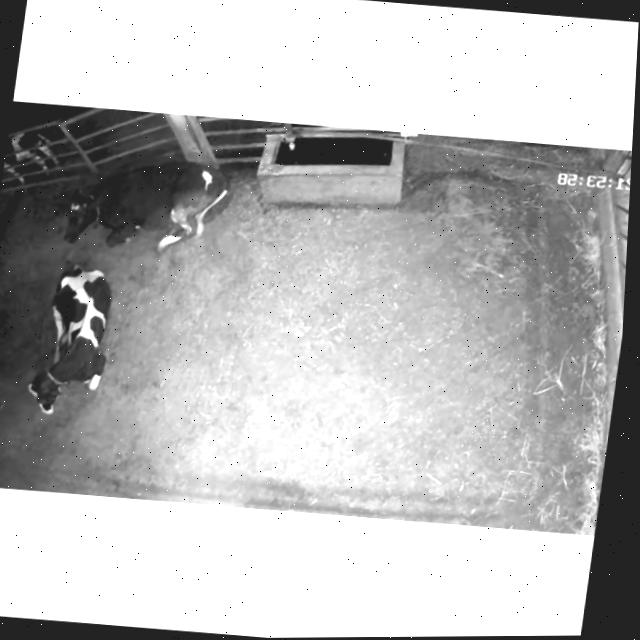lay: (50, 144, 240, 264), (15, 246, 131, 428)
